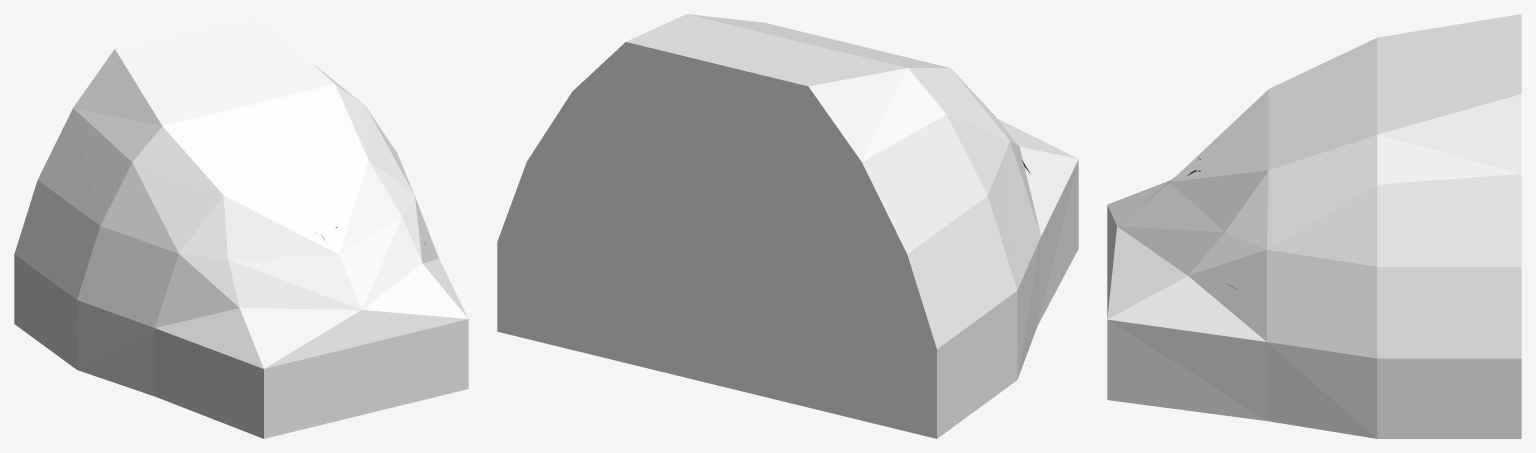
File: A320_NEO_INTERIOR_LOD04.gltf
3 renders of one model, left to right at view 1: azimuth 30°, elevation 25°; view 2: azimuth 150°, elevation 25°; view 3: azimuth 270°, elevation 25°, orthographic. The views are drawn at different scales.
Visible parts, largest first — view 1: Occluder; view 2: Occluder; view 3: Occluder.
Boxes of the visible parts, x1,y1,x2,y2 form: Occluder: (14, 14, 468, 438); Occluder: (497, 14, 1078, 438); Occluder: (1107, 14, 1521, 438).
Bounding box in the file's own units: 3.24 × 2.27 × 2.95.
